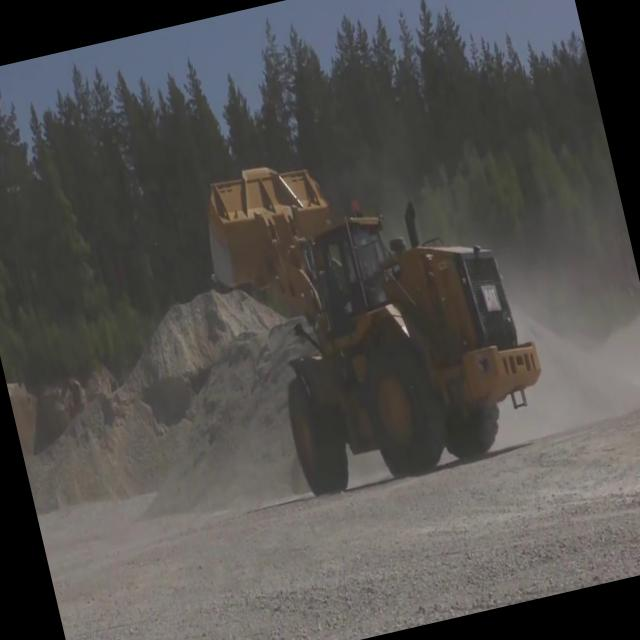Loader: (188, 103, 566, 520)
